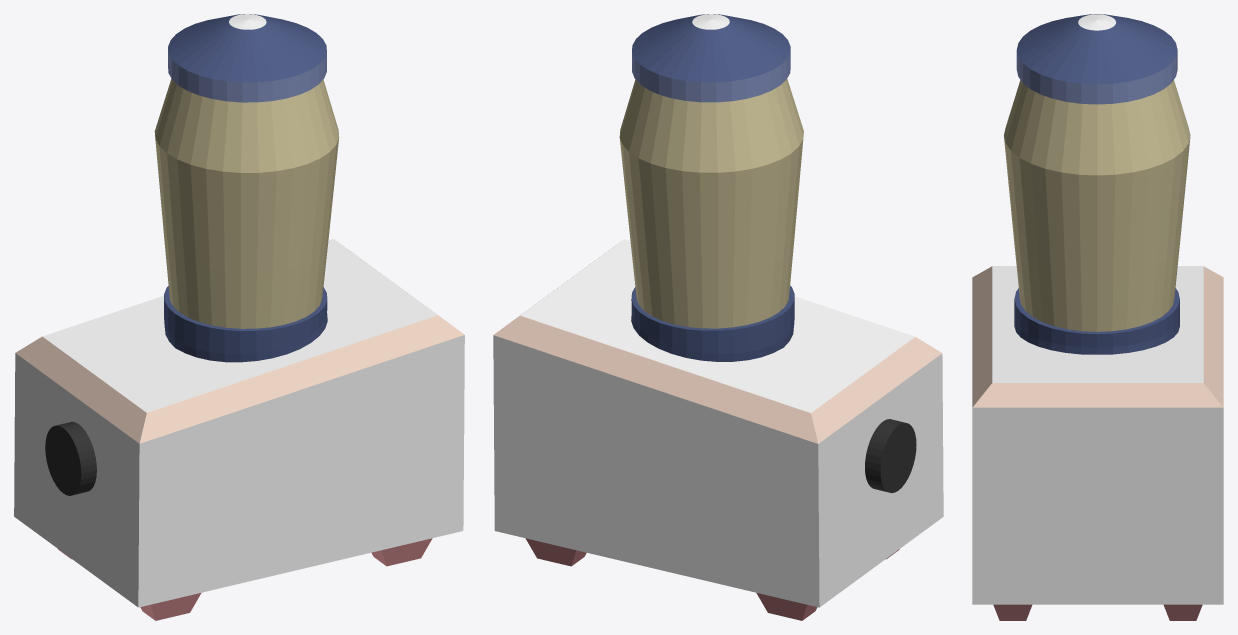
File: Res01_Mix.fbx
The picture shows the model from 3 angles, left to right: view 1: azimuth 30°, elevation 25°; view 2: azimuth 150°, elevation 25°; view 3: azimuth 270°, elevation 25°; orthographic projection.
Visible parts, largest first — view 1: Res01_Mix; view 2: Res01_Mix; view 3: Res01_Mix.
Boxes of the visible parts, x1=… form: Res01_Mix: x1=14, y1=14, x2=464, y2=620; Res01_Mix: x1=493, y1=14, x2=943, y2=620; Res01_Mix: x1=972, y1=14, x2=1223, y2=620.
Bounding box in the file's own units: 76.71 × 115 × 48.36.
